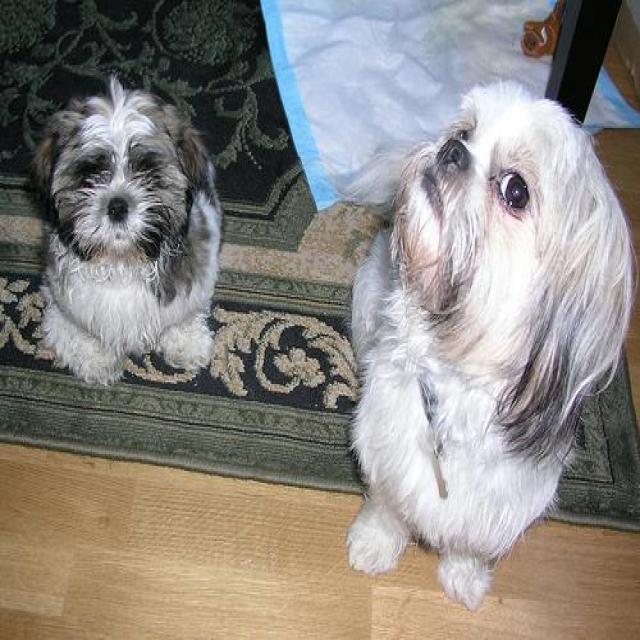shih_tzu: (347, 78, 632, 606), (31, 73, 222, 390)
